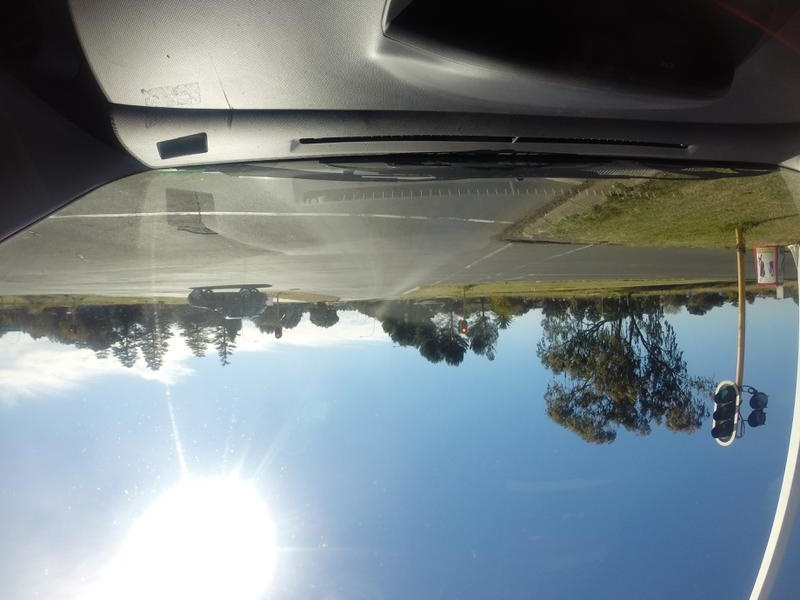pothole: (150, 208, 219, 246)
